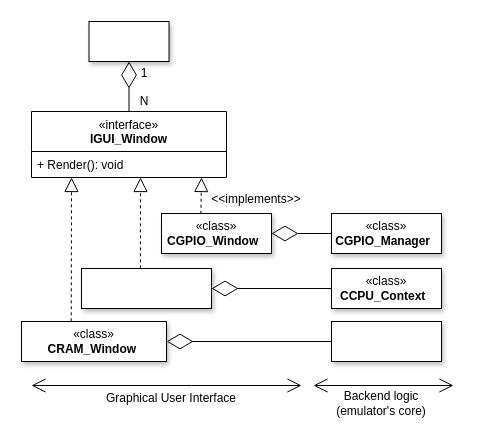
The diagram is 485 pixels wide and 435 high, and some of its shapes have lost their labels. The shapes that lost their labels are listed below. From the top down, each one's centre as x and y in pixels, then its label:
At (129,42): "«class» CGUI".
At (147,290): "«class» CRegisters_Window".
At (387,342): "«class» CRAM".
